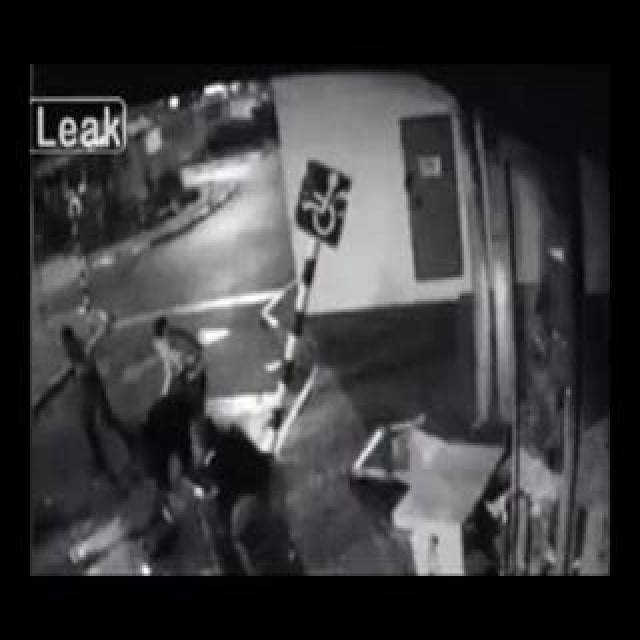thief: (44, 317, 333, 458)
